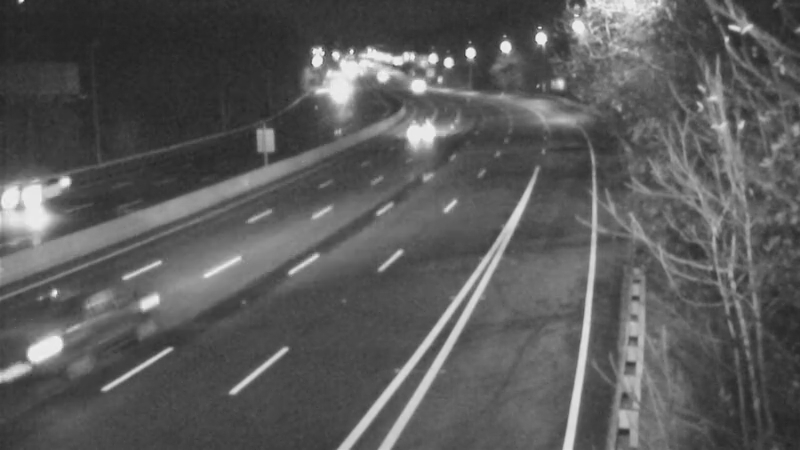vehicle: (38, 279, 148, 389), (4, 151, 84, 231), (385, 61, 435, 111), (394, 104, 444, 154)
